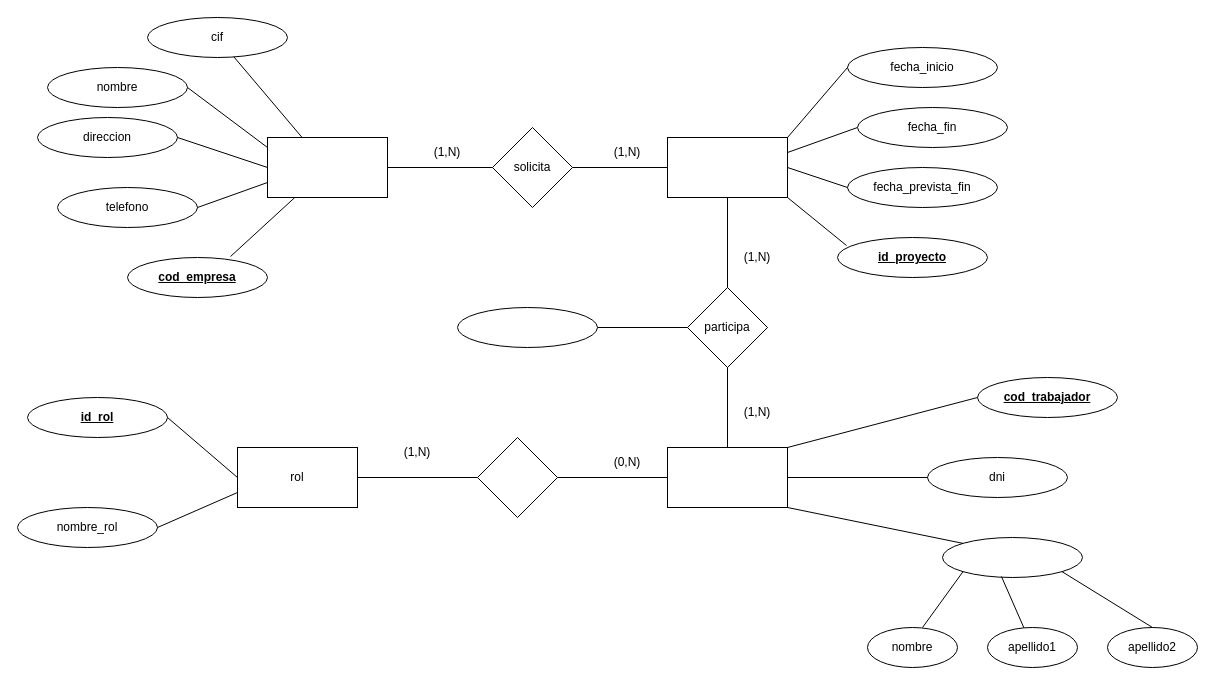
Image size: 1215x685. Some labels were removed from this diagram. The box of each missing label's shape, as (x1, y1, x2, y2) in pixels:
empresa: (266, 136, 388, 198)
nombrecompleto: (942, 536, 1082, 578)
num_horas: (456, 306, 598, 348)
proyecto: (666, 136, 788, 198)
tiene: (476, 436, 558, 518)
trabajador: (666, 446, 788, 508)
